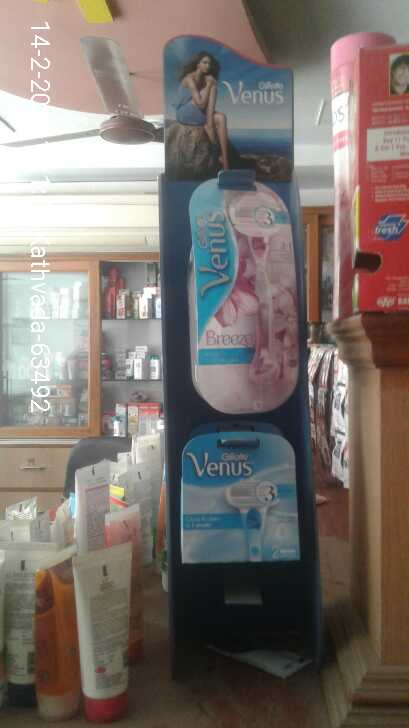venus: (186, 165, 302, 414), (172, 424, 308, 562)
